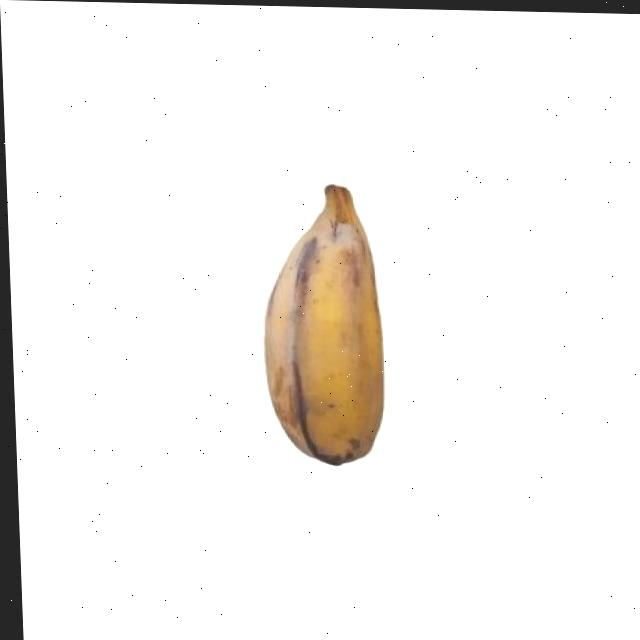banana: (252, 173, 398, 469)
